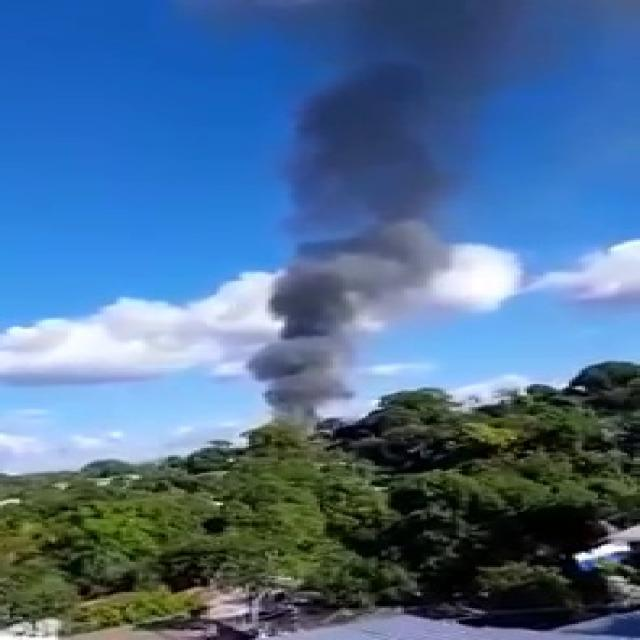Smoke: (203, 0, 598, 437)
